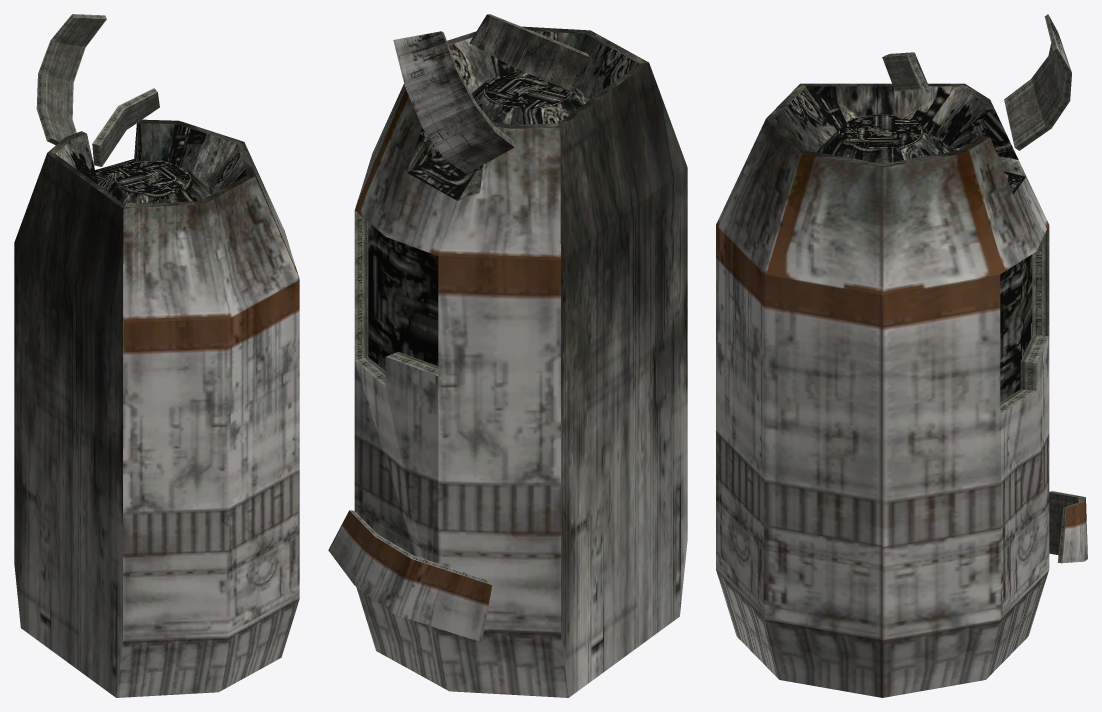
The model's file is thm_tato_lucky_despot_debris_lg_engine_s02_l1.fbx.
3 views of the same model, side by side, from view 1: azimuth 30°, elevation 25°; view 2: azimuth 150°, elevation 25°; view 3: azimuth 270°, elevation 25° (orthographic). The views are drawn at different scales.
Visible parts, largest first — view 1: mesh_node; view 2: mesh_node; view 3: mesh_node.
Boxes of the visible parts, x1,y1,x2,y2 form: mesh_node: (14, 14, 299, 697); mesh_node: (328, 14, 687, 697); mesh_node: (716, 14, 1087, 697).
Size of the model in its own units: 18.42 by 46.77 by 25.39.
